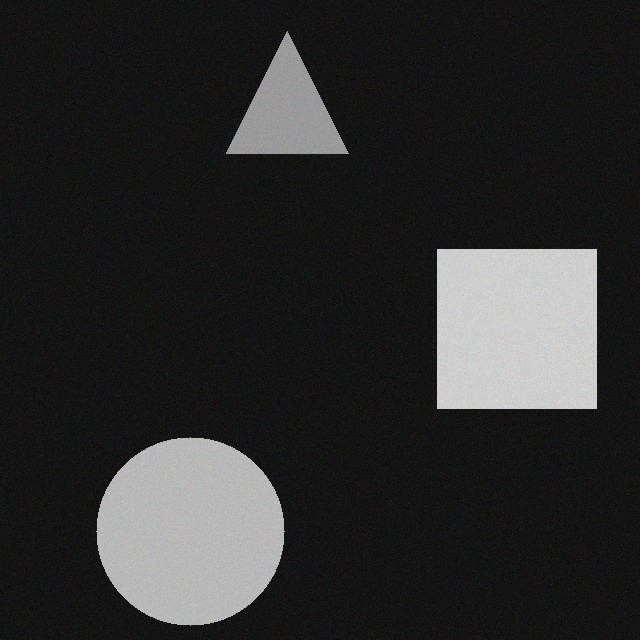circle: (110, 435, 298, 623)
square: (451, 247, 610, 406)
triangle: (240, 29, 362, 151)
